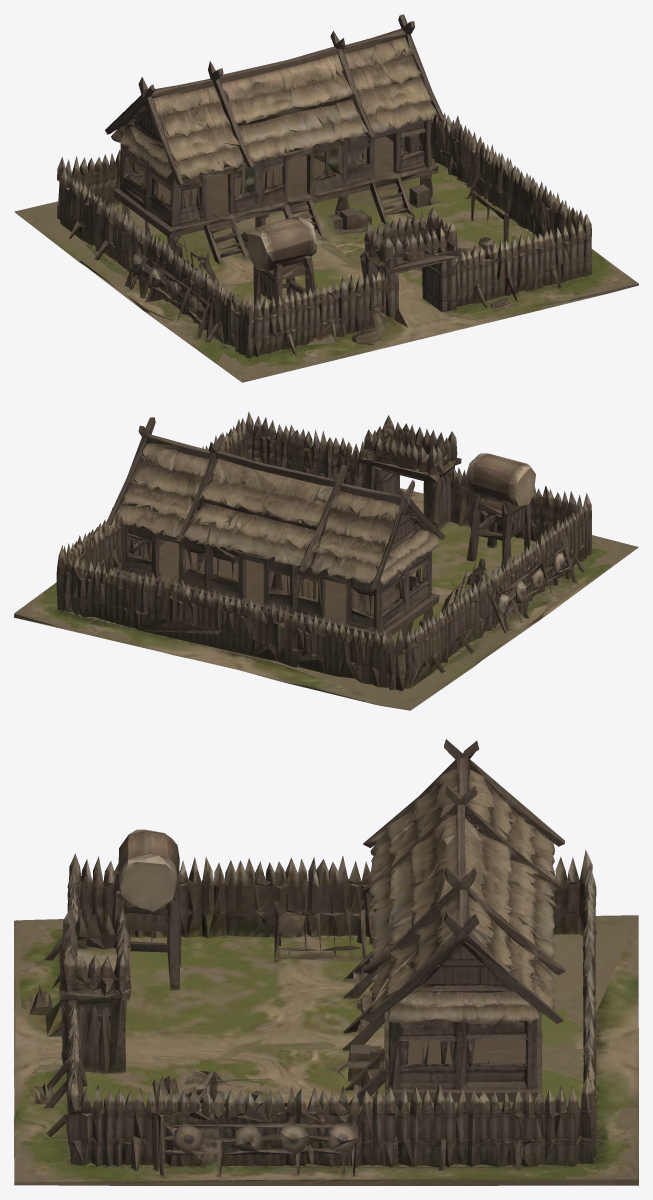
The model's file is barracks.glb.
3 views of the same model, one above another, from view 1: azimuth 30°, elevation 25°; view 2: azimuth 150°, elevation 25°; view 3: azimuth 270°, elevation 25° (orthographic). The views are drawn at different scales.
Parts seen in each view (by area): view 1: output_unwrapped; view 2: output_unwrapped; view 3: output_unwrapped.
Boxes of the visible parts, <box> form: output_unwrapped: <box>14,14,638,382</box>; output_unwrapped: <box>14,411,638,710</box>; output_unwrapped: <box>14,739,638,1185</box>.
Size of the model in its own units: 1.9 by 0.7691 by 1.89.
Materials: 1 (1 with a texture image).
